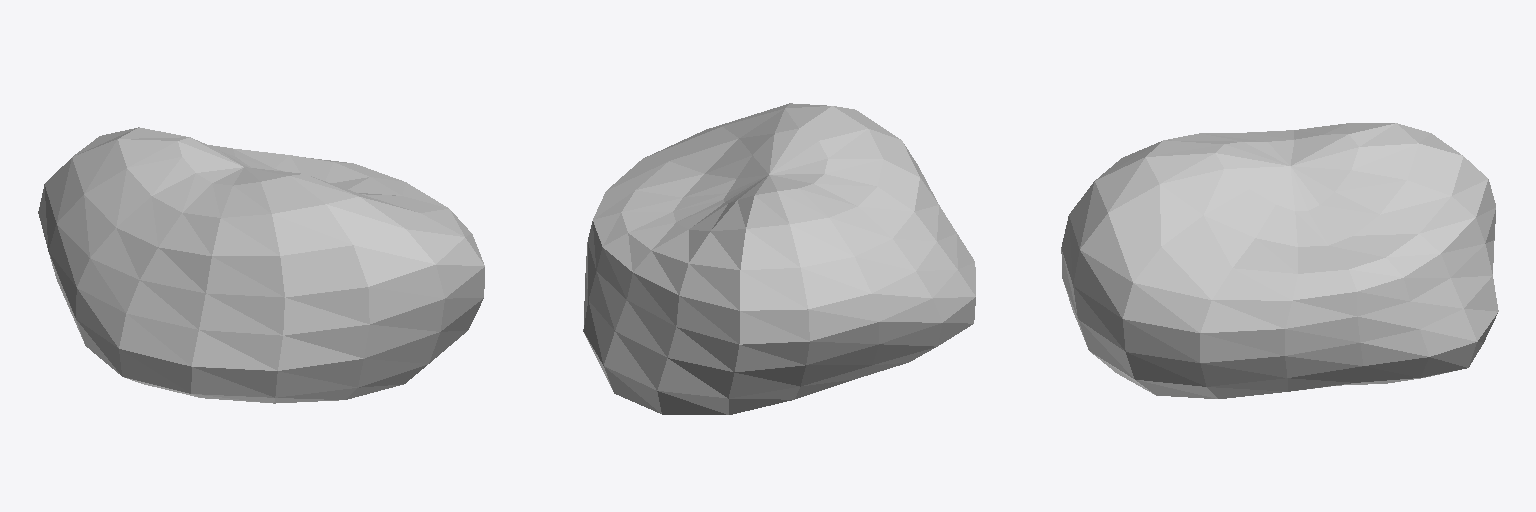
The model's file is rock11.Obj.
3 renders of one model, left to right at view 1: azimuth 30°, elevation 25°; view 2: azimuth 150°, elevation 25°; view 3: azimuth 270°, elevation 25°, orthographic.
Parts seen in each view (by area): view 1: default; view 2: default; view 3: default.
Boxes of the visible parts, box(x1,y1,x2,y2) form: default: box(38, 127, 484, 403); default: box(583, 103, 975, 414); default: box(1061, 123, 1498, 398).
Size of the model in its own units: 0.9944 by 0.5544 by 1.06.